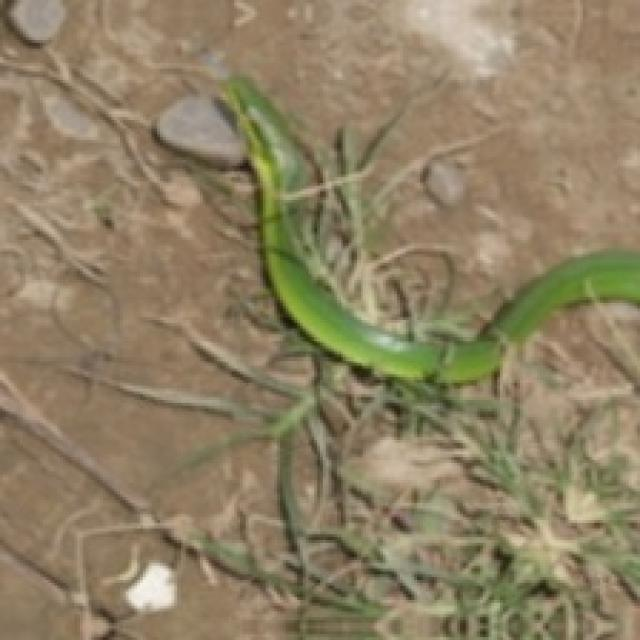red-tailed green ratsnake: (223, 77, 637, 389)
